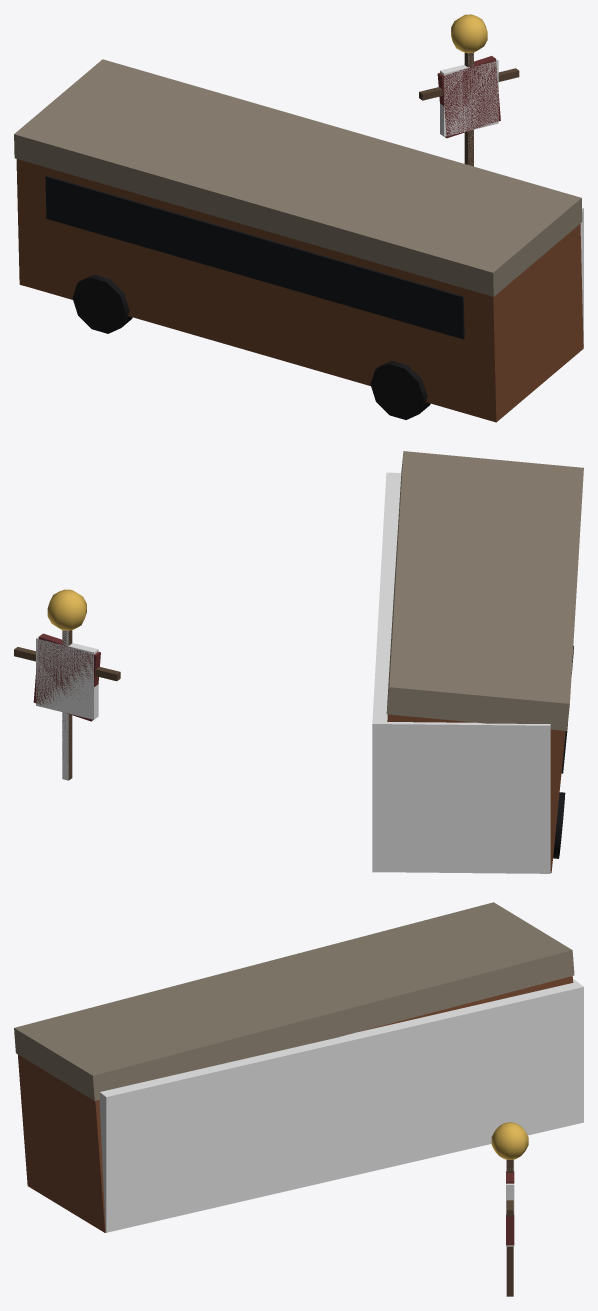
Rendered from mark-old-bus.glb.
3 views of the same model, one above another, from view 1: azimuth 30°, elevation 25°; view 2: azimuth 150°, elevation 25°; view 3: azimuth 270°, elevation 25° (orthographic). The views are drawn at different scales.
Parts seen in each view (by area): view 1: 01_#8a8070_noshadow, 00_#7a4a30, 02_#16181c_noshadow, 03_#141416_r320, 06_#6a3030_r320, solid.002, 05_#d8b050_r110, 04_#5a4636_r320; view 2: 01_#8a8070_noshadow, solid, solid.002, 06_#6a3030_r320, 00_#7a4a30, 05_#d8b050_r110, 04_#5a4636_r320, solid.001; view 3: solid, 01_#8a8070_noshadow, 00_#7a4a30, 05_#d8b050_r110, 04_#5a4636_r320.
Boxes of the visible parts, left/top/right/bottom form: 01_#8a8070_noshadow: left=14, top=59, right=582, bottom=296; 00_#7a4a30: left=16, top=159, right=583, bottom=422; 02_#16181c_noshadow: left=45, top=175, right=464, bottom=339; 03_#141416_r320: left=72, top=274, right=430, bottom=419; 06_#6a3030_r320: left=437, top=56, right=500, bottom=138; solid.002: left=440, top=57, right=498, bottom=136; 05_#d8b050_r110: left=451, top=14, right=487, bottom=53; 04_#5a4636_r320: left=419, top=52, right=519, bottom=166; 01_#8a8070_noshadow: left=386, top=451, right=583, bottom=730; solid: left=372, top=472, right=550, bottom=873; solid.002: left=36, top=635, right=98, bottom=719; 06_#6a3030_r320: left=33, top=633, right=100, bottom=721; 00_#7a4a30: left=387, top=714, right=565, bottom=872; 05_#d8b050_r110: left=47, top=589, right=86, bottom=630; 04_#5a4636_r320: left=14, top=630, right=120, bottom=780; solid.001: left=62, top=630, right=68, bottom=780; solid: left=99, top=978, right=583, bottom=1232; 01_#8a8070_noshadow: left=14, top=902, right=574, bottom=1100; 00_#7a4a30: left=18, top=976, right=573, bottom=1232; 05_#d8b050_r110: left=491, top=1122, right=528, bottom=1159; 04_#5a4636_r320: left=506, top=1159, right=513, bottom=1296.
Size of the model in its own units: 8.47 by 3.24 by 8.38.
